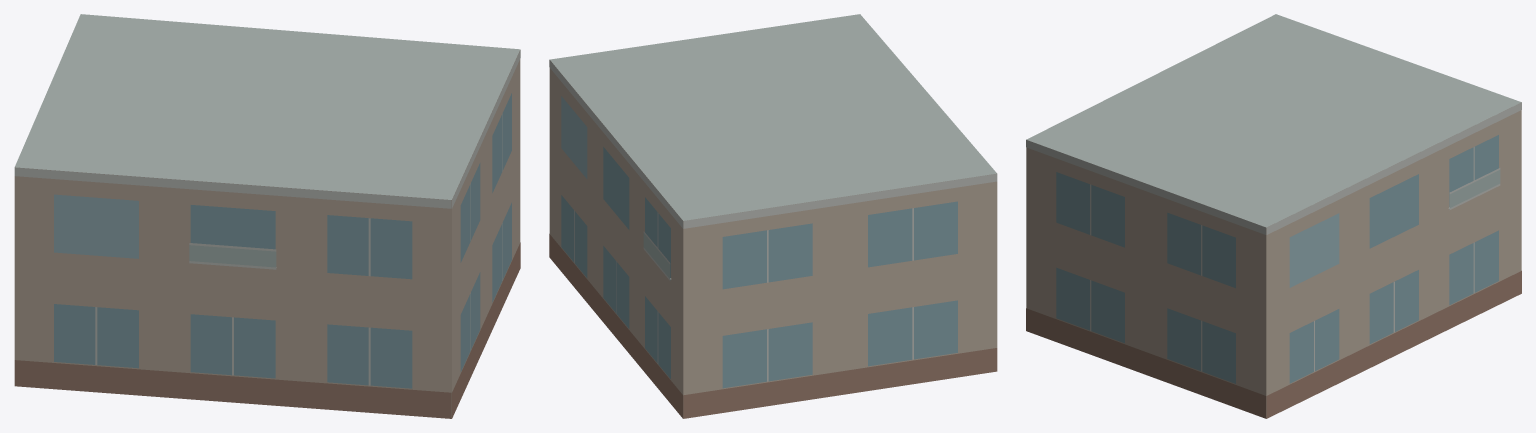
Rendered from survey-upis-33039955.glb.
3 views of the same model, side by side, from view 1: azimuth 30°, elevation 25°; view 2: azimuth 150°, elevation 25°; view 3: azimuth 270°, elevation 25° (orthographic). The views are drawn at different scales.
Parts seen in each view (by area): view 1: survey-upis-33039955.tmp; view 2: survey-upis-33039955.tmp; view 3: survey-upis-33039955.tmp.
Boxes of the visible parts, bbox=[...] form: survey-upis-33039955.tmp: bbox=[14, 14, 520, 418]; survey-upis-33039955.tmp: bbox=[549, 14, 997, 418]; survey-upis-33039955.tmp: bbox=[1026, 14, 1521, 418].
Size of the model in its own units: 14.61 by 6.1 by 14.33.
